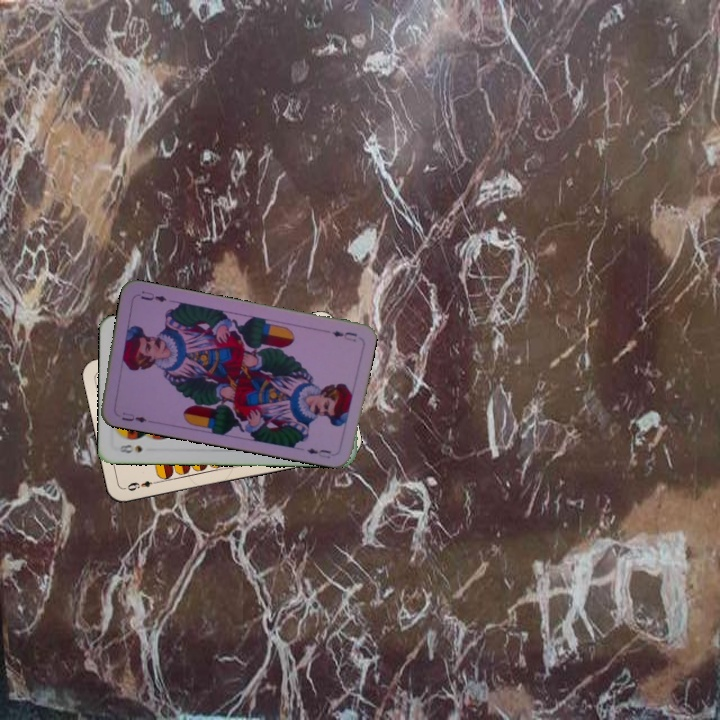E9: (121, 476, 161, 494)
EU: (118, 408, 153, 426), (328, 327, 360, 344)
S8: (115, 440, 145, 456)
